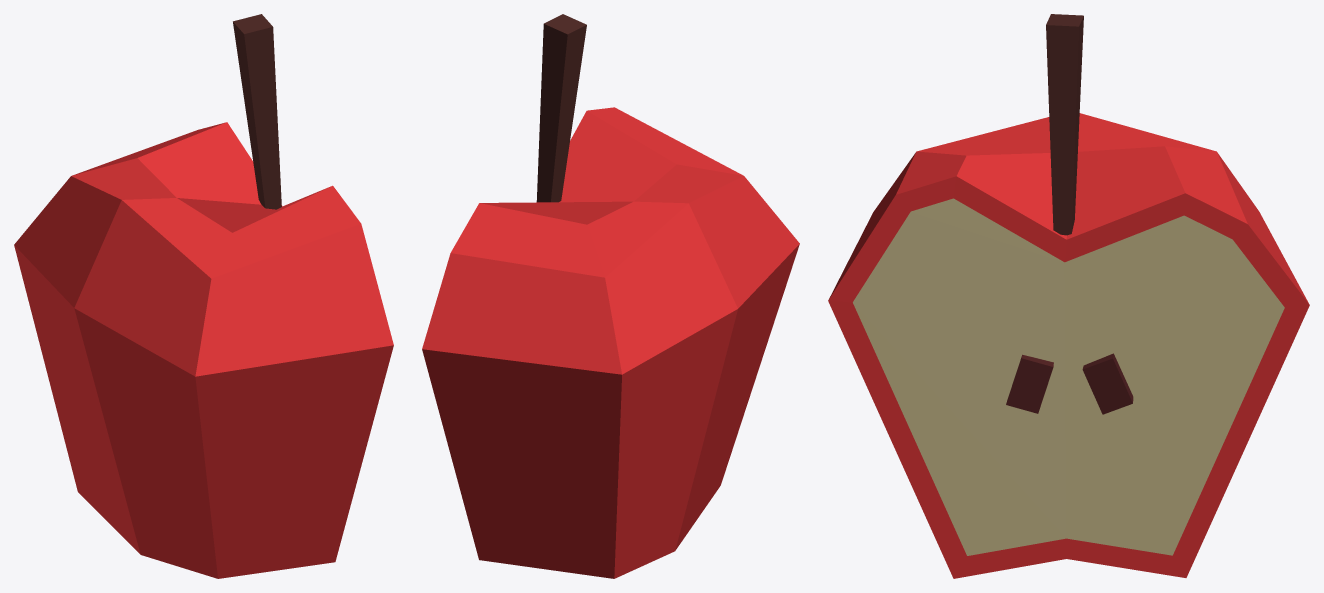
File: appleHalf.fbx
The picture shows the model from 3 angles, left to right: view 1: azimuth 30°, elevation 25°; view 2: azimuth 150°, elevation 25°; view 3: azimuth 270°, elevation 25°; orthographic projection. The views are drawn at different scales.
Parts seen in each view (by area): view 1: appleHalf; view 2: appleHalf; view 3: appleHalf.
Boxes of the visible parts, x1,y1,x2,y2 form: appleHalf: (14,14,393,578); appleHalf: (422,14,799,578); appleHalf: (828,14,1309,578).
Bounding box in the file's own units: 5.7 × 12.69 × 10.18.
Materials: 1 (1 with a texture image).
